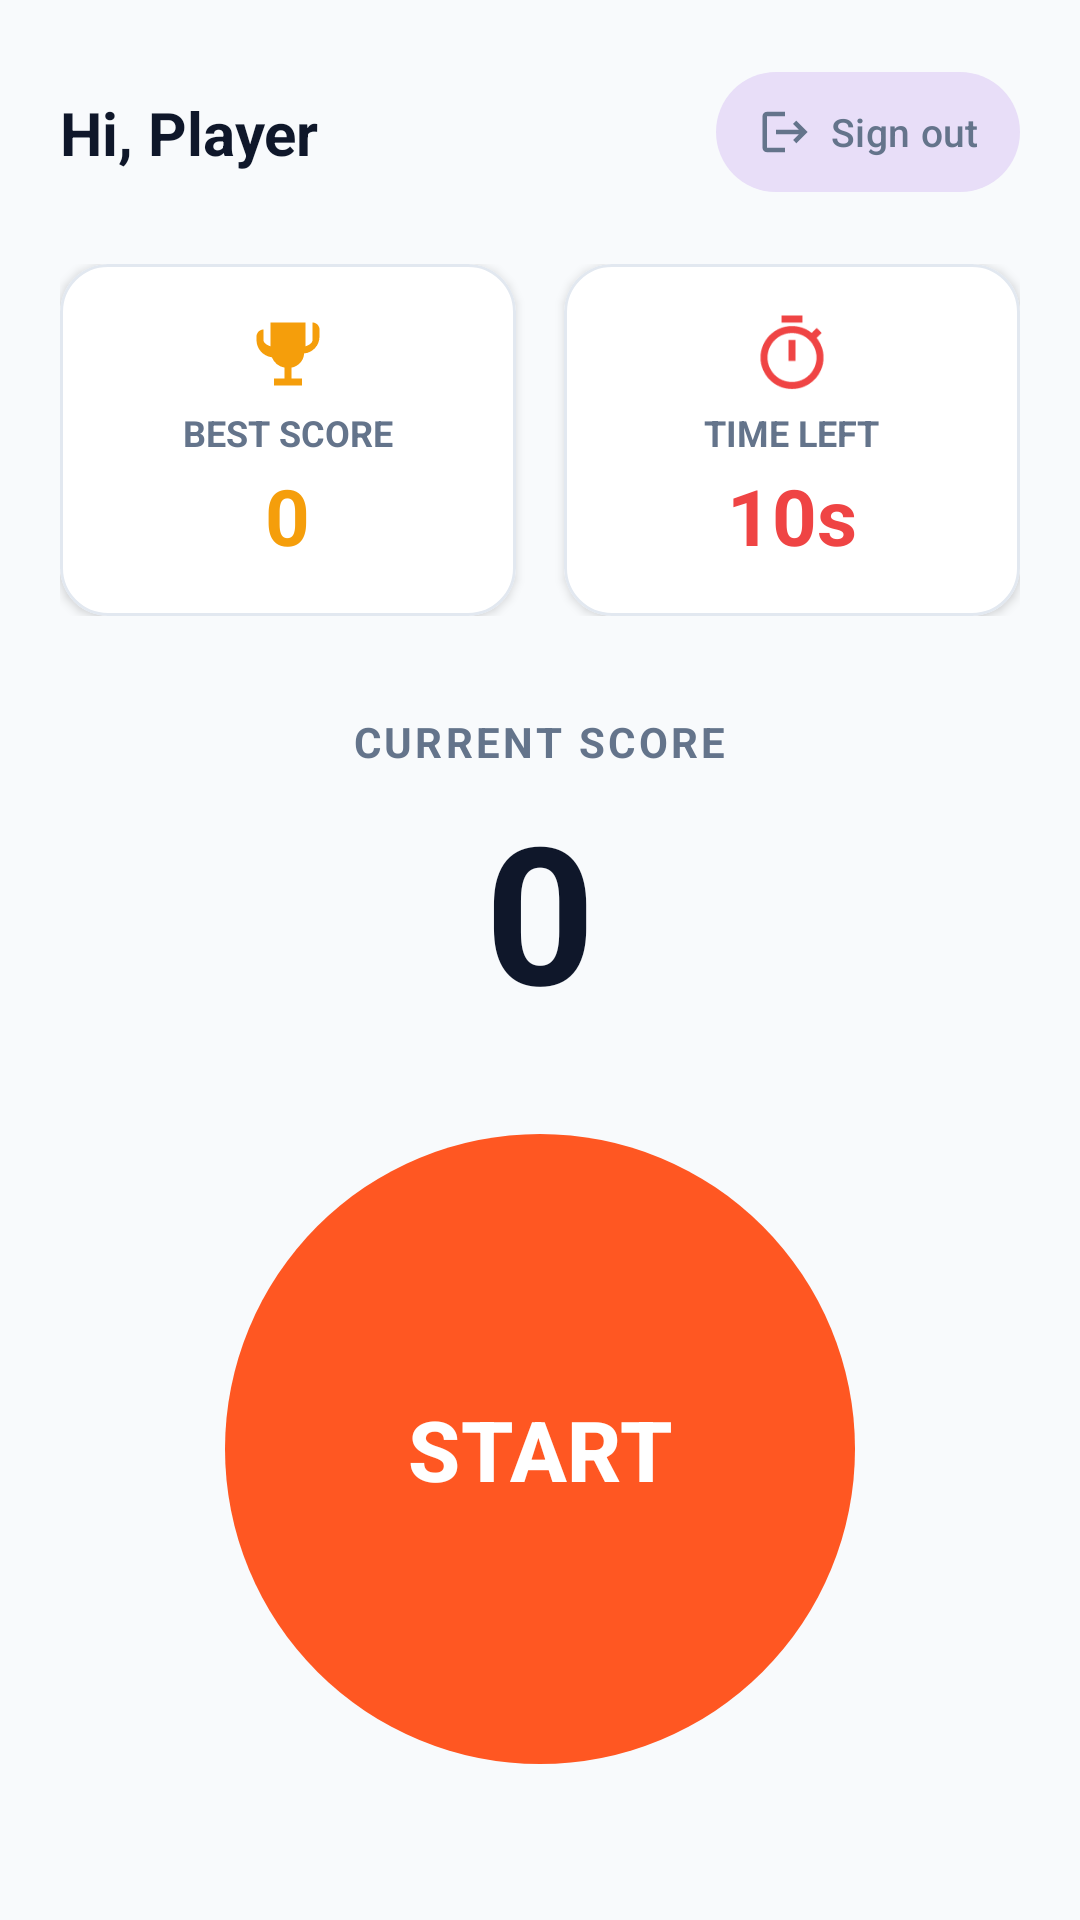

Icons on this 1080 x 1920 Android screen, each with its box as [left=x1, top=y1, right=x2, bottom=y2]:
Timer: [left=760, top=315, right=824, bottom=389]
